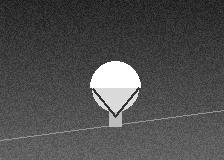helmet: (90, 61, 140, 116)
